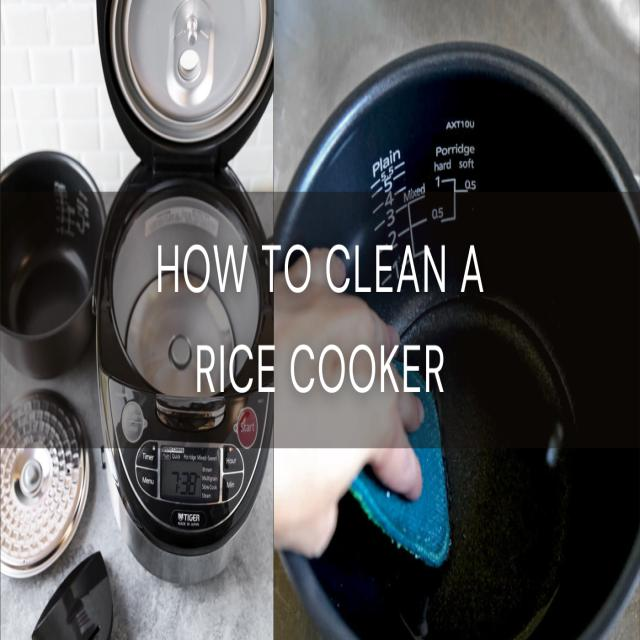appliances: (275, 43, 640, 639), (94, 0, 272, 581), (0, 150, 104, 377), (0, 390, 88, 577), (410, 356, 424, 374), (262, 373, 272, 385), (432, 378, 435, 387)
